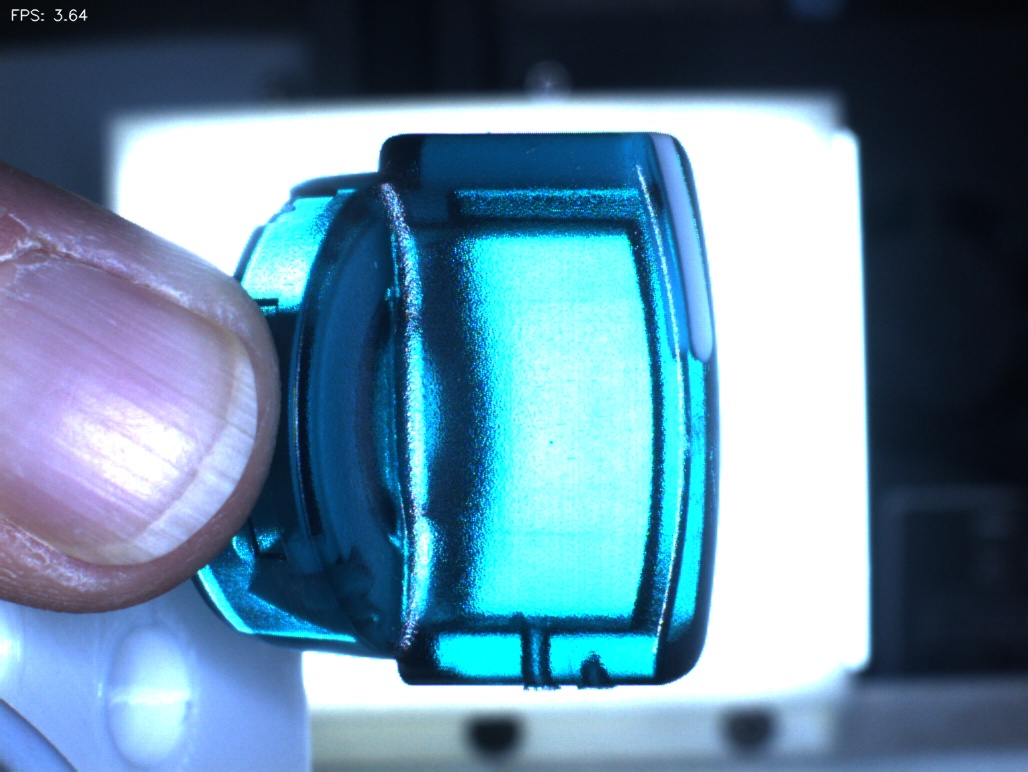Bulle: (552, 622, 644, 719)
